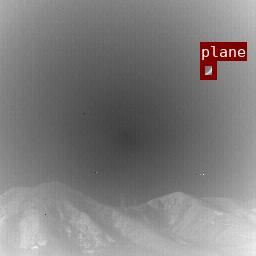plane: (200, 61, 216, 79)
